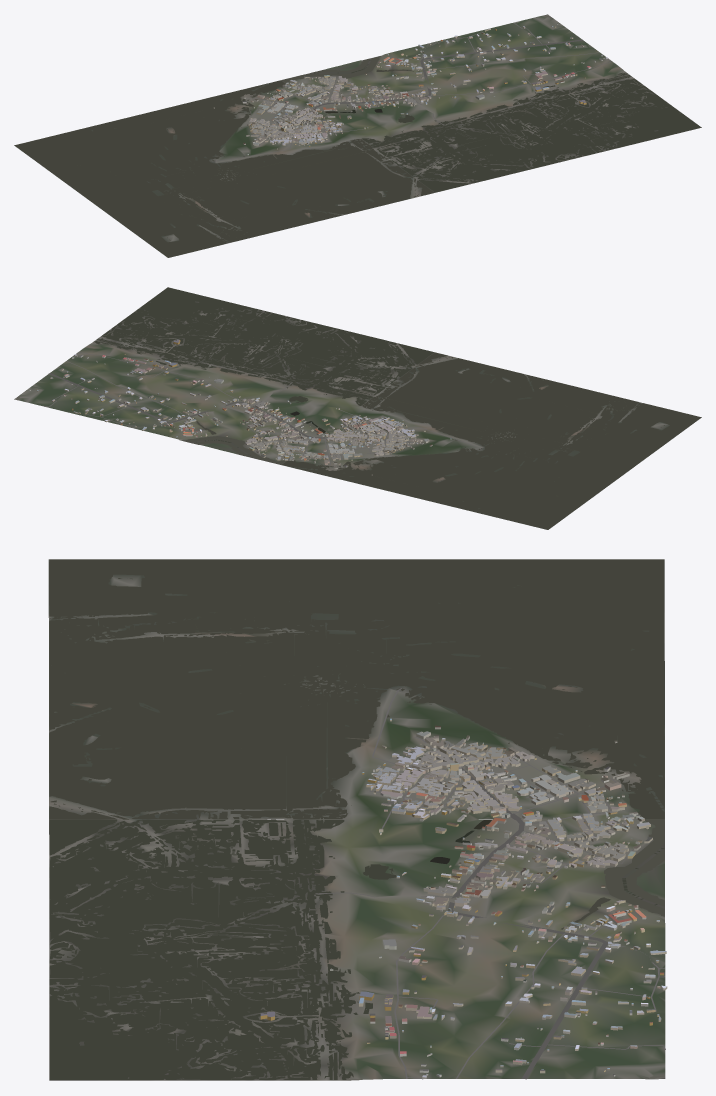
3 renders of one model, top to bottom at view 1: azimuth 30°, elevation 25°; view 2: azimuth 150°, elevation 25°; view 3: azimuth 270°, elevation 25°, orthographic. The views are drawn at different scales.
Visible parts, largest first — view 1: water, ground, buildings, roads; view 2: water, ground, buildings, roads; view 3: water, ground, buildings, roads.
Part boxes in pixels (left/top/right/bottom): water: left=15, top=15, right=701, bottom=257; ground: left=14, top=14, right=701, bottom=257; buildings: left=213, top=23, right=608, bottom=155; roads: left=212, top=23, right=612, bottom=161; water: left=16, top=287, right=700, bottom=529; ground: left=14, top=287, right=701, bottom=529; buildings: left=29, top=339, right=451, bottom=475; roads: left=44, top=352, right=481, bottom=465; water: left=49, top=559, right=664, bottom=1079; ground: left=48, top=559, right=665, bottom=1080; buildings: left=260, top=718, right=667, bottom=1078; roads: left=315, top=688, right=665, bottom=1079.
Size of the model in its own units: 2806 by 20.04 by 1406.
